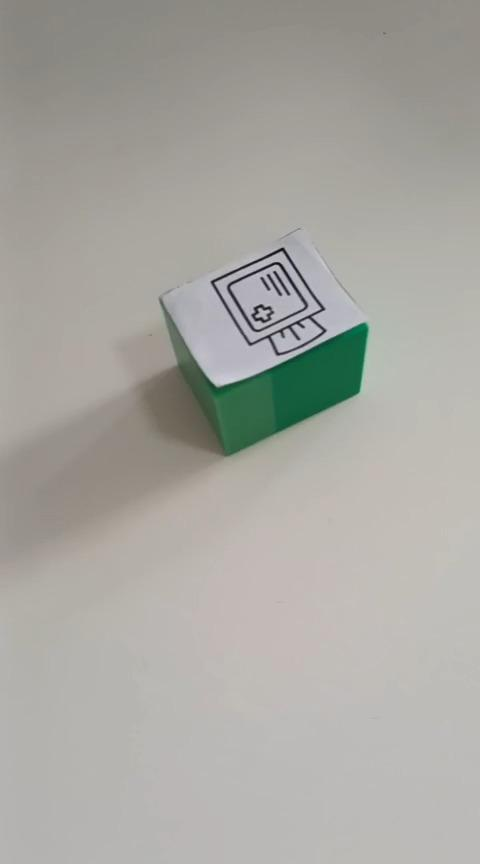Gauze: (157, 225, 369, 456)
